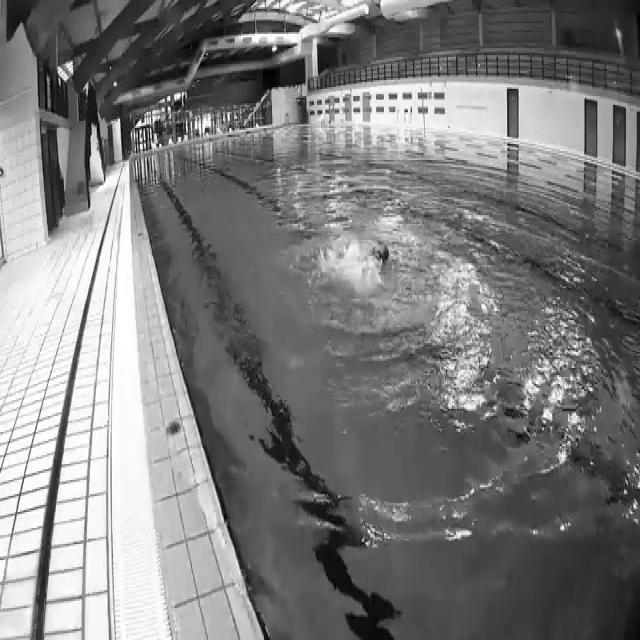Drowning: (336, 220, 421, 332)
